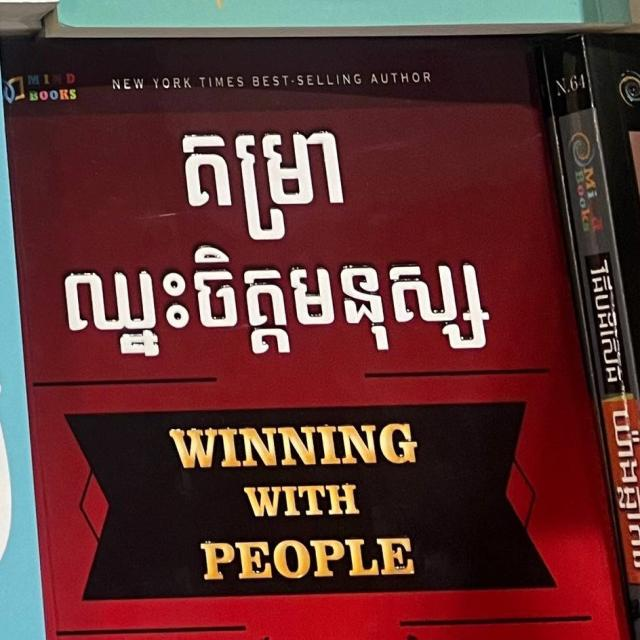Yolov11_80vkh: (56, 241, 500, 367), (177, 111, 361, 243)
